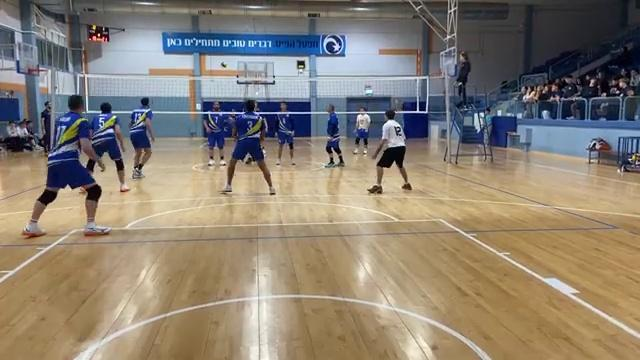ball: (220, 60, 230, 70)
